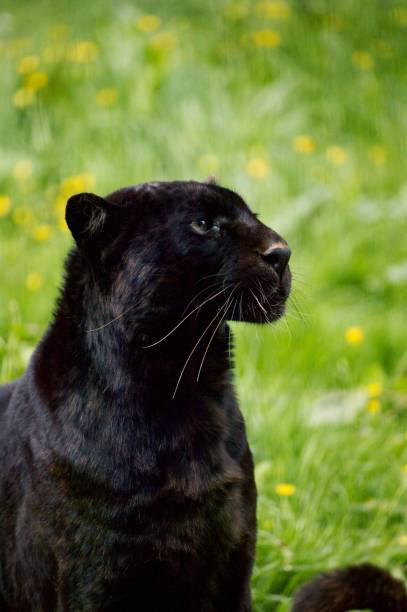panther: (60, 173, 300, 396)
